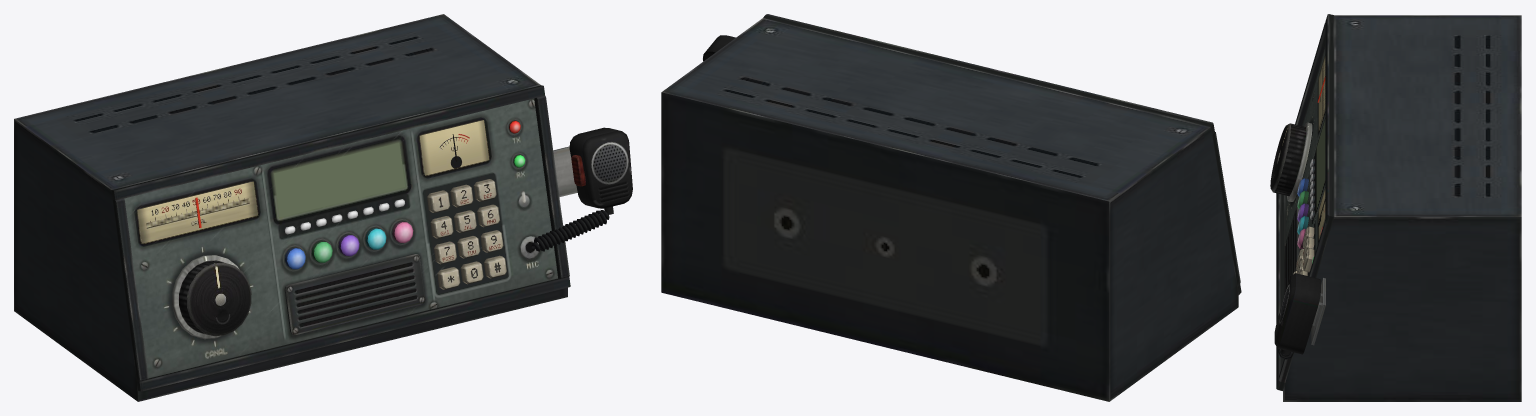
File: radio.glb
3 views of the same model, side by side, from view 1: azimuth 30°, elevation 25°; view 2: azimuth 150°, elevation 25°; view 3: azimuth 270°, elevation 25° (orthographic). The views are drawn at different scales.
Parts seen in each view (by area): view 1: body, speaker, display, dial, mic, mic_cord, mic_hook; view 2: body; view 3: body, mic, dial, speaker, display, mic_hook.
Boxes of the visible parts, x1,y1,x2,y2 form: body: (14, 14, 570, 401); speaker: (284, 254, 425, 335); display: (274, 143, 405, 217); dial: (172, 255, 251, 339); mic: (569, 127, 632, 214); mic_cord: (531, 210, 609, 251); mic_hook: (553, 146, 577, 197); body: (661, 14, 1241, 401); body: (1276, 14, 1521, 401); mic: (1274, 273, 1320, 355); dial: (1270, 122, 1312, 201); speaker: (1284, 205, 1299, 294); display: (1316, 119, 1325, 205); mic_hook: (1311, 278, 1325, 345).
Size of the model in its own units: 0.554 by 0.207 by 0.2526.
2 materials, 2 textured.
